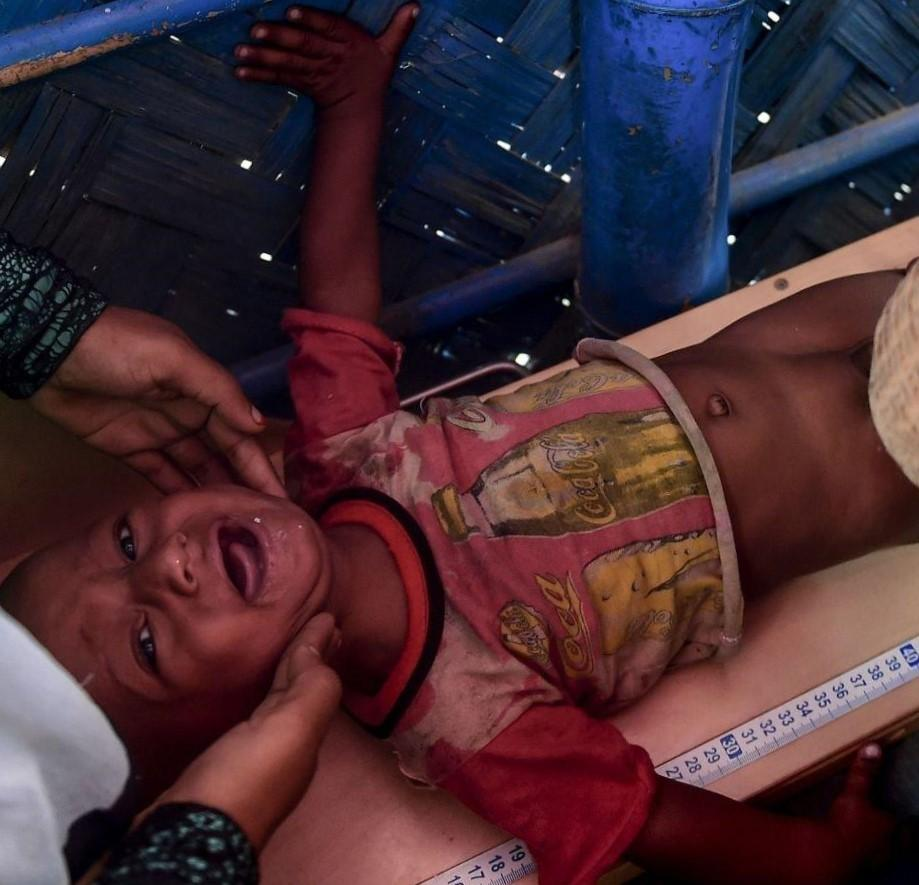Stunting: (18, 470, 425, 805)
